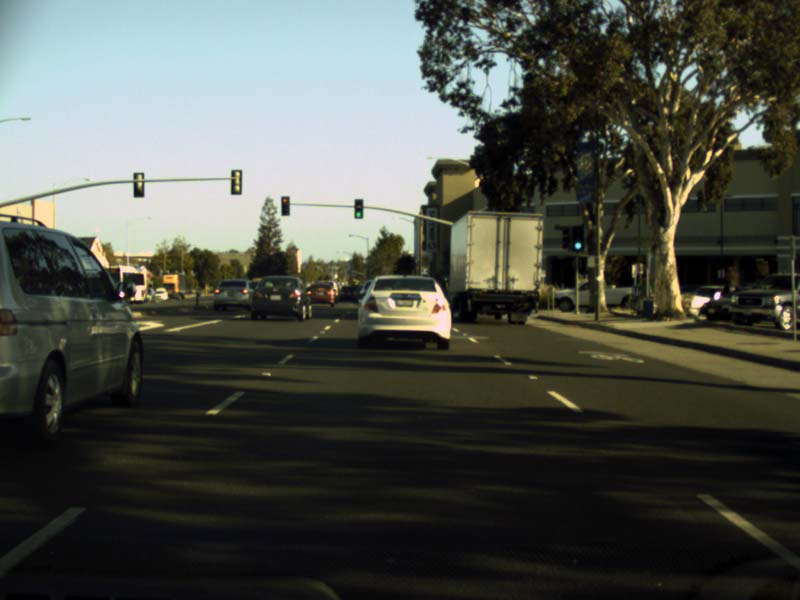Green: (571, 224, 584, 252), (353, 198, 363, 219)
Red: (280, 195, 290, 216)
